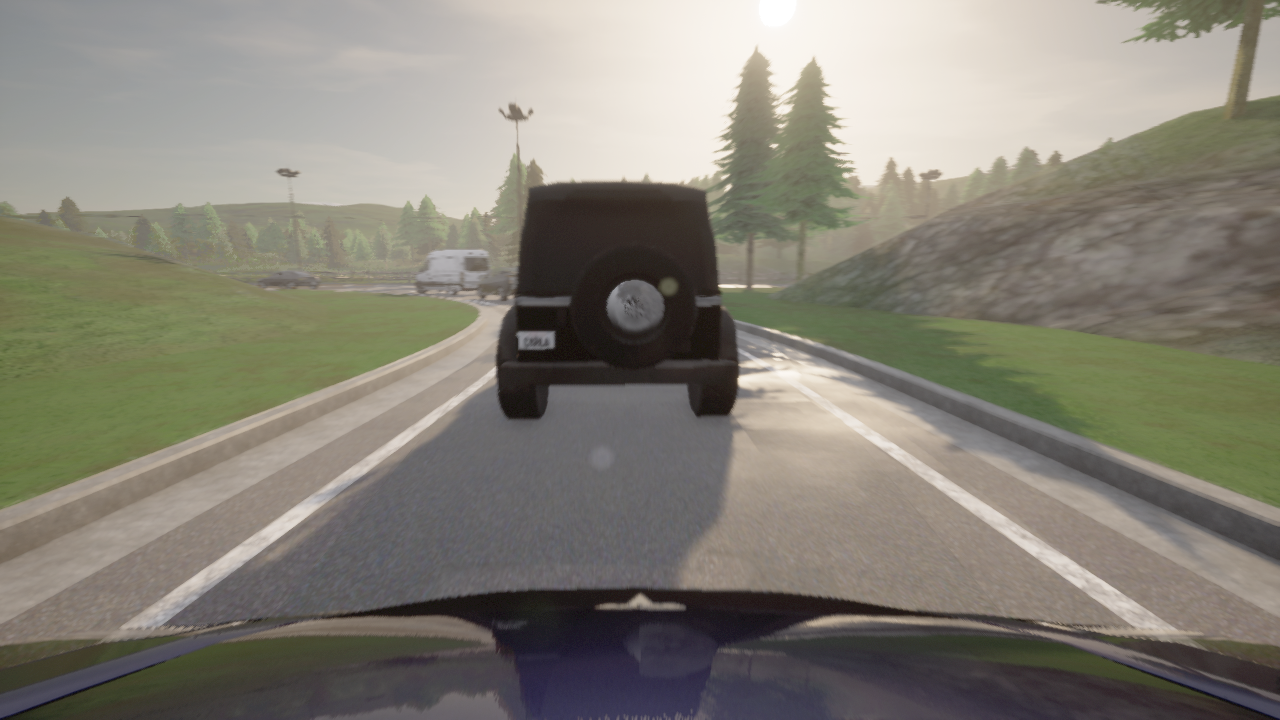cyclist: (0, 588, 1279, 719), (497, 180, 738, 418), (416, 248, 491, 295), (477, 266, 518, 301), (256, 270, 320, 289)
